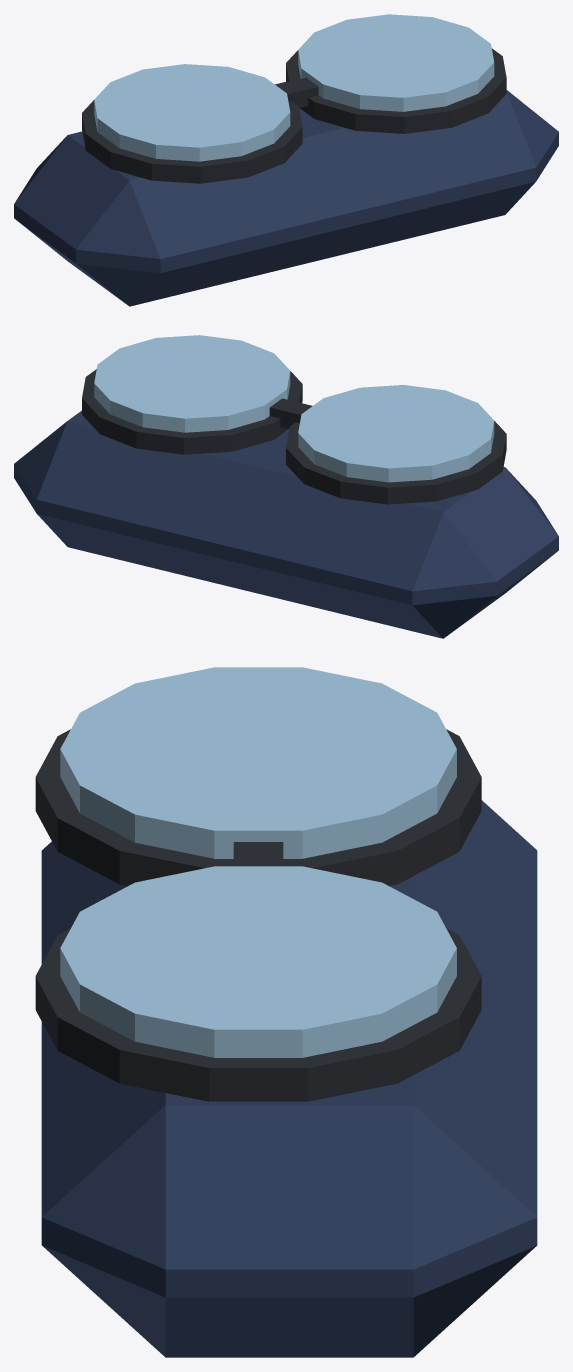
File: prop_artillery_p2.glb
3 renders of one model, top to bottom at view 1: azimuth 30°, elevation 25°; view 2: azimuth 150°, elevation 25°; view 3: azimuth 270°, elevation 25°, orthographic. The views are drawn at different scales.
Visible parts, largest first — view 1: prop_artillery_p2_mesh; view 2: prop_artillery_p2_mesh; view 3: prop_artillery_p2_mesh.
Boxes of the visible parts, x1,y1,x2,y2 form: prop_artillery_p2_mesh: [14, 14, 558, 306]; prop_artillery_p2_mesh: [14, 335, 558, 638]; prop_artillery_p2_mesh: [35, 667, 537, 1357].
Size of the model in its own units: 0.18 by 0.058 by 0.081.
